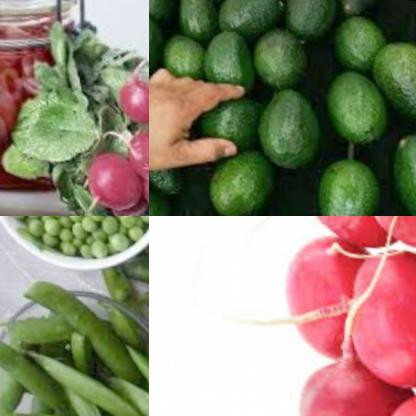avocado: (303, 130, 381, 216), (247, 78, 322, 162), (206, 141, 286, 216), (315, 66, 392, 135), (328, 4, 392, 73), (200, 19, 249, 91), (254, 13, 310, 75), (374, 34, 416, 114), (383, 122, 416, 216), (159, 17, 208, 79), (276, 0, 340, 41), (212, 0, 281, 34), (168, 0, 212, 38), (149, 9, 161, 86)
peas: (0, 277, 149, 416), (0, 216, 149, 258), (95, 258, 138, 313)
rediska: (62, 15, 149, 216), (341, 230, 416, 398), (280, 227, 364, 363), (290, 336, 416, 416), (289, 216, 406, 246)
